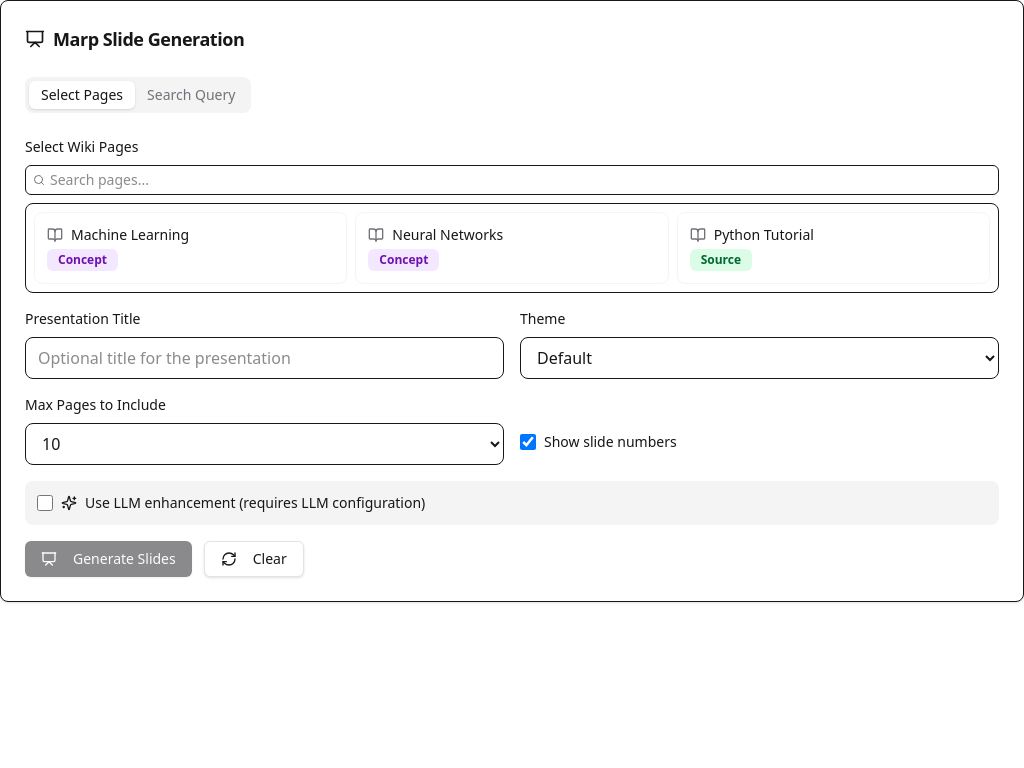
Scenario: MarpSlides › should select wiki pages when clicked
Expected: the text "Machine Learning" is shown, [71,225,189,245]
What coordinates should you click on to do the following:
click the button "Machine Learning Concept"
I would click on:
 (130, 234)
Its box is [34,212,347,284].
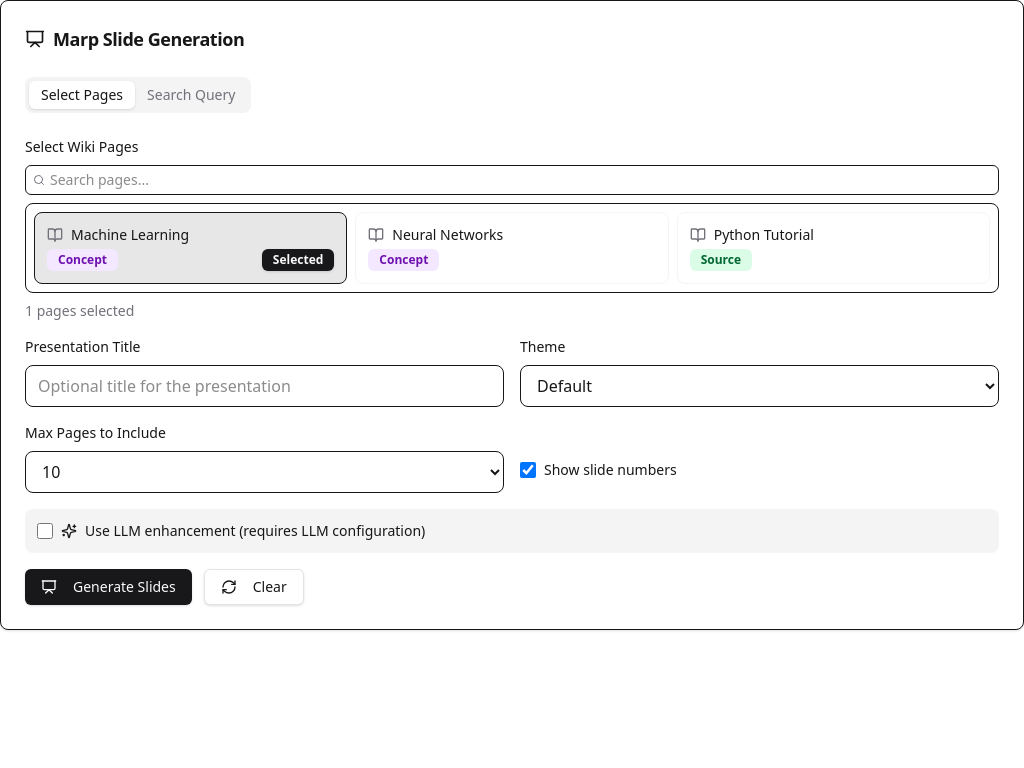
Expected: the text "1 pages selected" is shown, [25,301,134,320]
